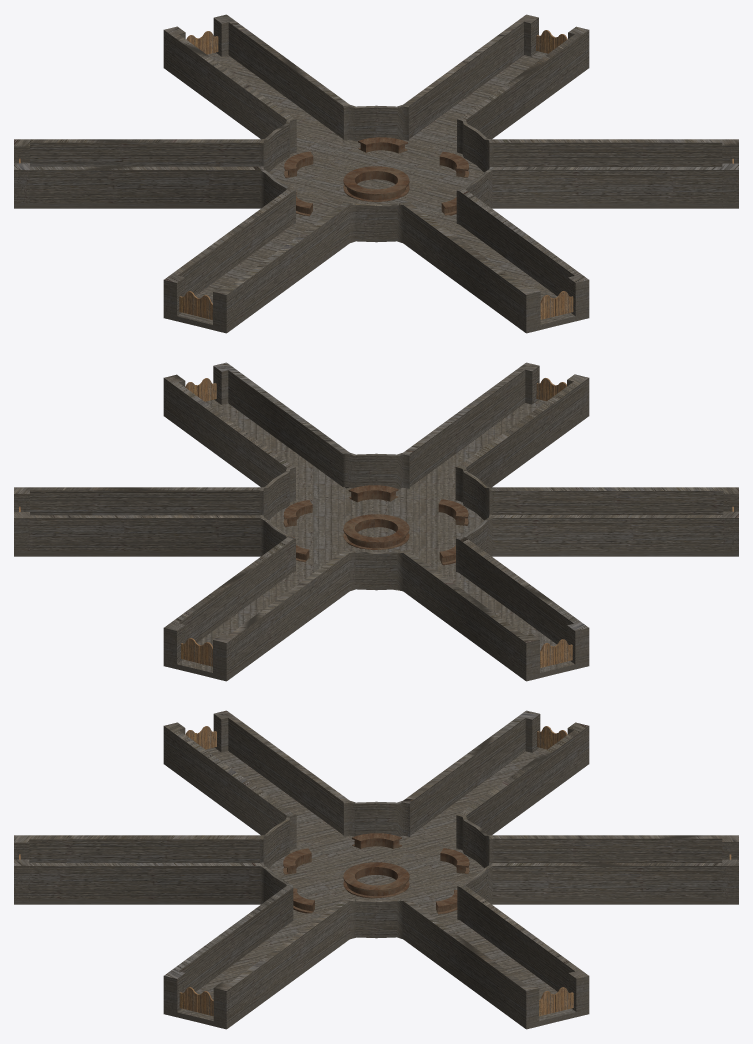
File: Saloon_Environment.fbx
3 renders of one model, top to bottom at view 1: azimuth 30°, elevation 25°; view 2: azimuth 150°, elevation 25°; view 3: azimuth 270°, elevation 25°, orthographic.
Visible parts, largest first — view 1: Circle.001; view 2: Circle.001; view 3: Circle.001.
Boxes of the visible parts, <box> form: Circle.001: <box>14,14,738,333</box>; Circle.001: <box>14,362,738,681</box>; Circle.001: <box>14,710,738,1029</box>.
Size of the model in its own units: 10330 by 674 by 11277.
5 materials, 5 textured.
